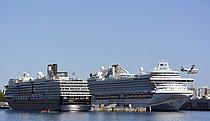Ship: (86, 59, 198, 111), (4, 62, 92, 114)
